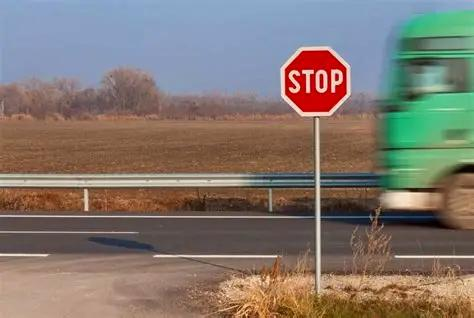Stop: (283, 47, 348, 113)
